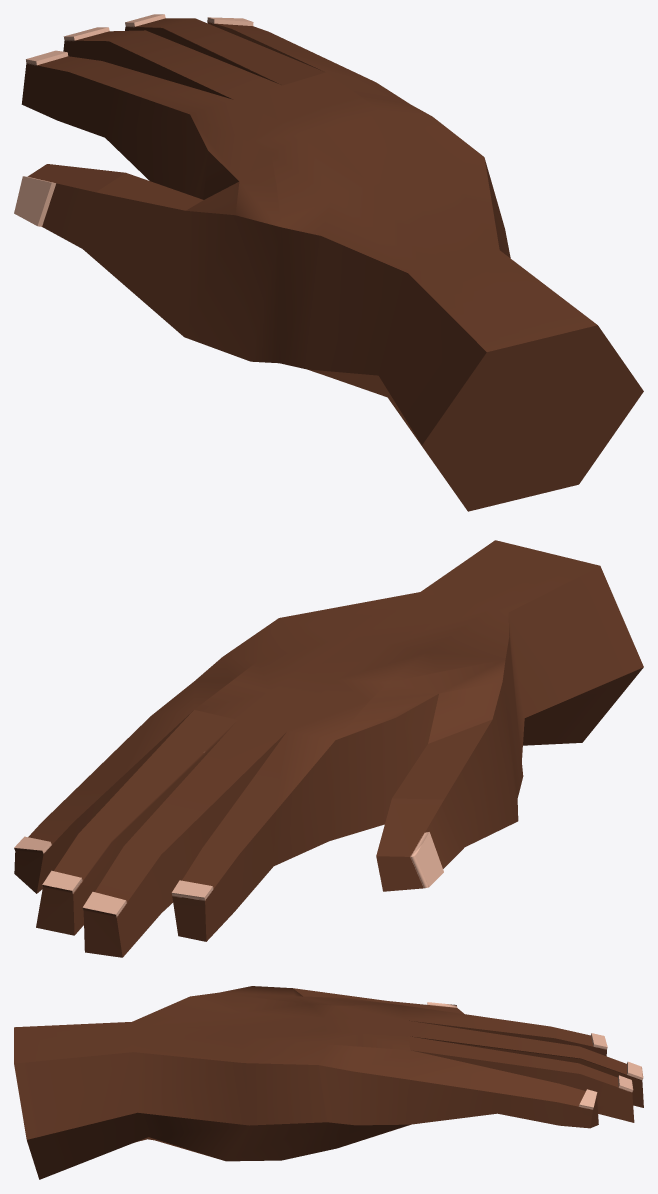
The model's file is hand right.fbx.
The picture shows the model from 3 angles, top to bottom: view 1: azimuth 30°, elevation 25°; view 2: azimuth 150°, elevation 25°; view 3: azimuth 270°, elevation 25°; orthographic projection. The views are drawn at different scales.
Visible parts, largest first — view 1: pCylinder10; view 2: pCylinder10; view 3: pCylinder10.
Part boxes in pixels (<box>): pCylinder10: <box>14,14,643,511</box>; pCylinder10: <box>14,540,643,957</box>; pCylinder10: <box>14,986,643,1179</box>.
Bounding box in the file's own units: 1.65 × 0.9628 × 3.88.
Materials: 1 (1 with a texture image).
